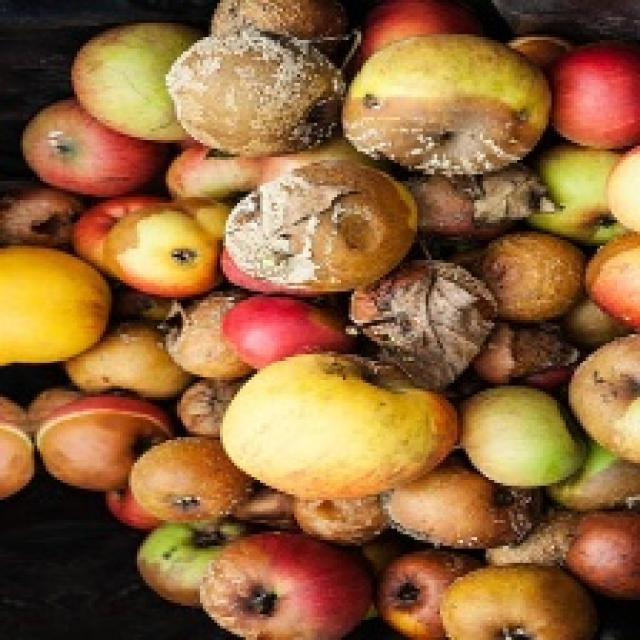rotten_apple: (350, 41, 546, 164), (227, 167, 413, 291), (177, 36, 331, 150), (204, 538, 364, 631), (357, 268, 488, 369), (37, 394, 154, 473), (138, 442, 255, 521), (400, 476, 533, 544), (104, 208, 216, 286), (410, 170, 524, 244), (572, 334, 640, 456), (488, 238, 588, 314), (565, 511, 640, 602), (378, 556, 450, 636), (491, 326, 576, 388), (140, 525, 203, 597), (0, 189, 80, 237)
